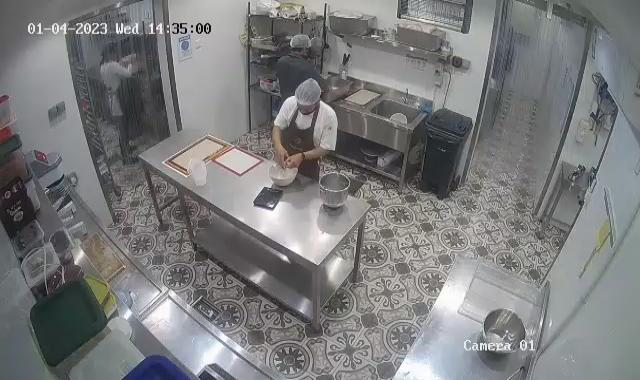hairnet: (294, 78, 321, 107), (288, 33, 312, 53)
